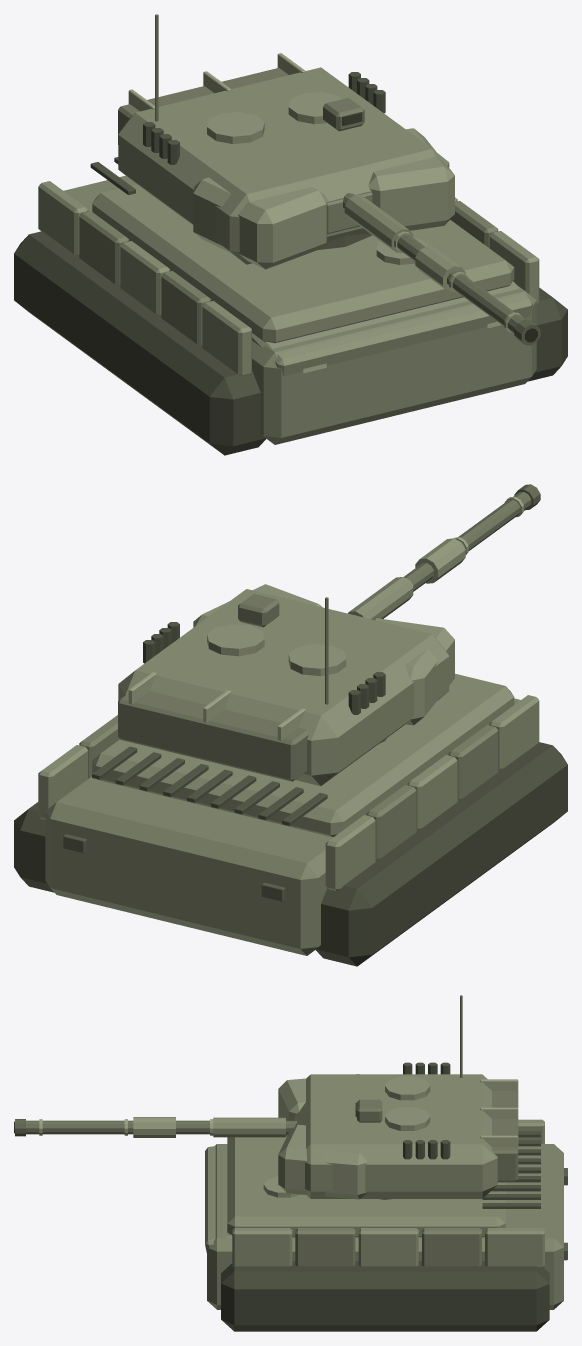
Rendered from leopard.glb.
3 renders of one model, top to bottom at view 1: azimuth 30°, elevation 25°; view 2: azimuth 150°, elevation 25°; view 3: azimuth 270°, elevation 25°, orthographic. The views are drawn at different scales.
Visible parts, largest first — view 1: leopard; view 2: leopard; view 3: leopard.
Part boxes in pixels (bbox=[...]): leopard: bbox=[14, 14, 567, 455]; leopard: bbox=[14, 484, 567, 966]; leopard: bbox=[14, 995, 567, 1331].
Size of the model in its own units: 10.1 by 8.45 by 17.53.
